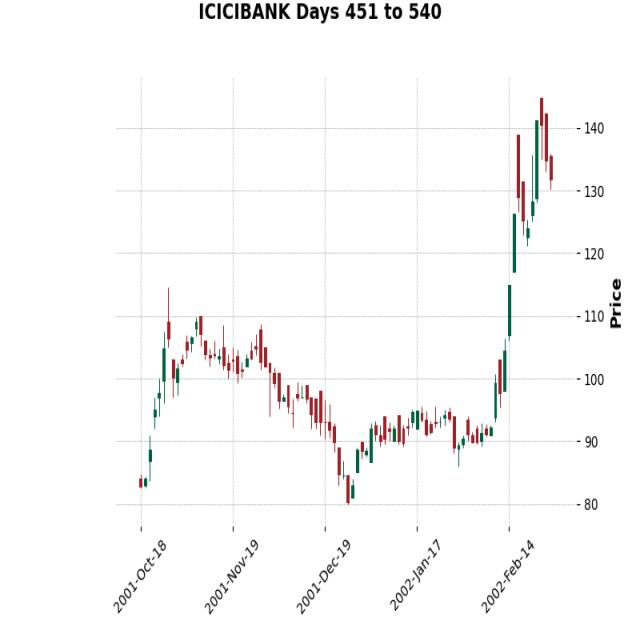Triple Bottom Reversal: (315, 366, 529, 506)
